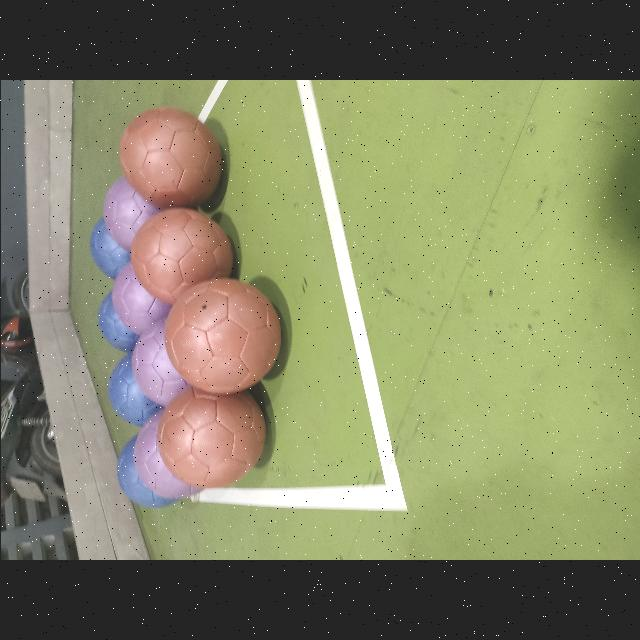B: (116, 434, 176, 508), (107, 354, 161, 426), (96, 292, 138, 352), (89, 217, 129, 279)
P: (134, 410, 200, 500), (101, 177, 160, 251), (111, 263, 171, 335)
R: (163, 278, 279, 394), (158, 387, 264, 487), (119, 108, 221, 208), (128, 214, 226, 304)
